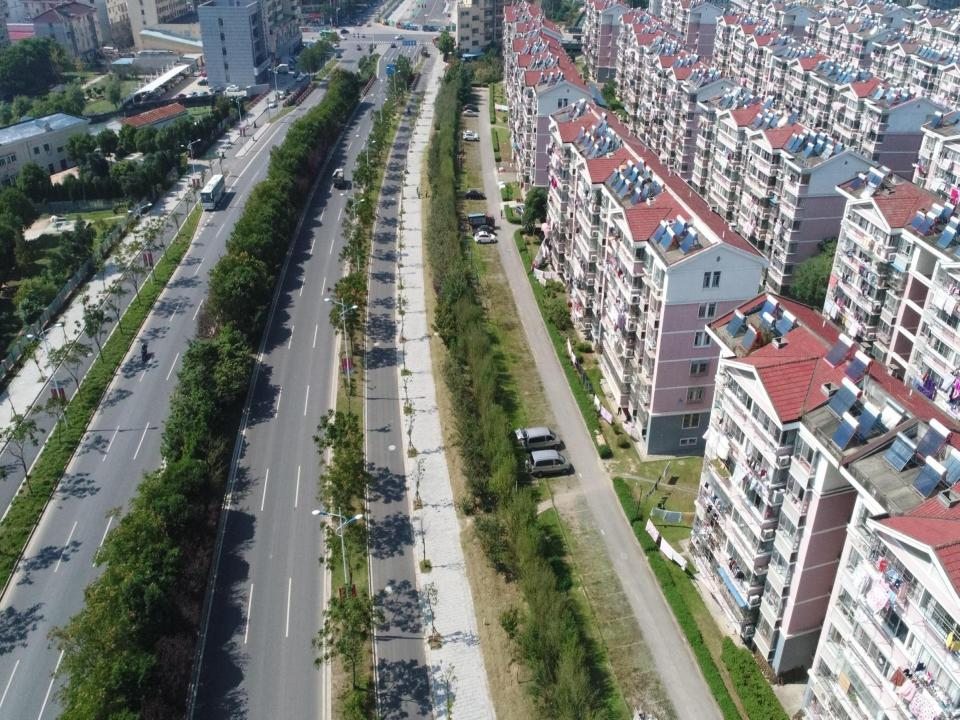bus: (200, 172, 228, 210)
car: (527, 447, 571, 476), (521, 427, 563, 449), (473, 232, 499, 245), (464, 188, 488, 202), (278, 54, 295, 68), (515, 203, 528, 218), (464, 108, 479, 118), (463, 133, 478, 142), (463, 130, 478, 138), (193, 65, 202, 78), (210, 85, 224, 93), (226, 84, 240, 92), (276, 65, 290, 73), (146, 90, 160, 98), (465, 102, 477, 110), (175, 73, 188, 80), (267, 99, 277, 108), (277, 92, 286, 102), (150, 88, 164, 94), (153, 86, 167, 92), (160, 84, 174, 90), (145, 94, 158, 100), (171, 75, 183, 81), (300, 69, 307, 79), (169, 78, 180, 84), (296, 73, 302, 83), (394, 34, 404, 40), (291, 56, 298, 64), (292, 54, 300, 61), (390, 41, 396, 49), (335, 52, 342, 58), (355, 44, 361, 51), (352, 18, 358, 25), (294, 70, 299, 78), (366, 20, 370, 27), (357, 21, 362, 26)
truck: (468, 212, 495, 229), (478, 224, 494, 234), (432, 36, 441, 50), (421, 44, 428, 58), (422, 25, 435, 32), (406, 24, 418, 31), (395, 23, 405, 29)
van: (103, 48, 118, 55), (164, 79, 177, 85), (438, 26, 446, 32)
